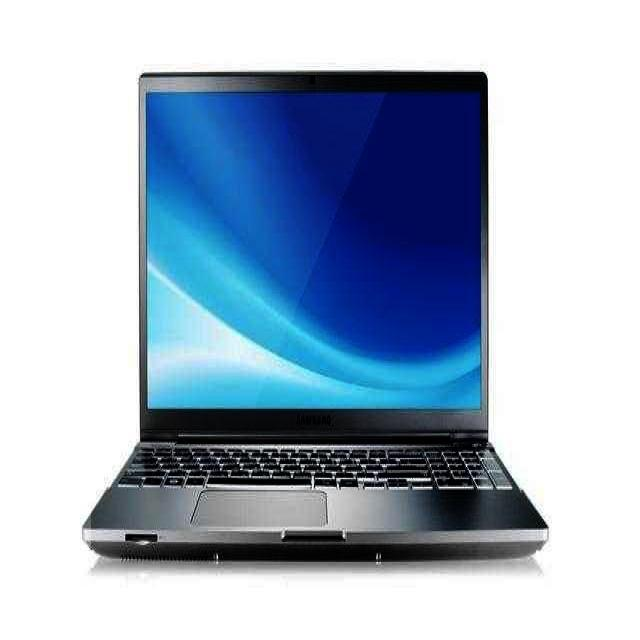-keyboard-: (91, 40, 637, 622)
